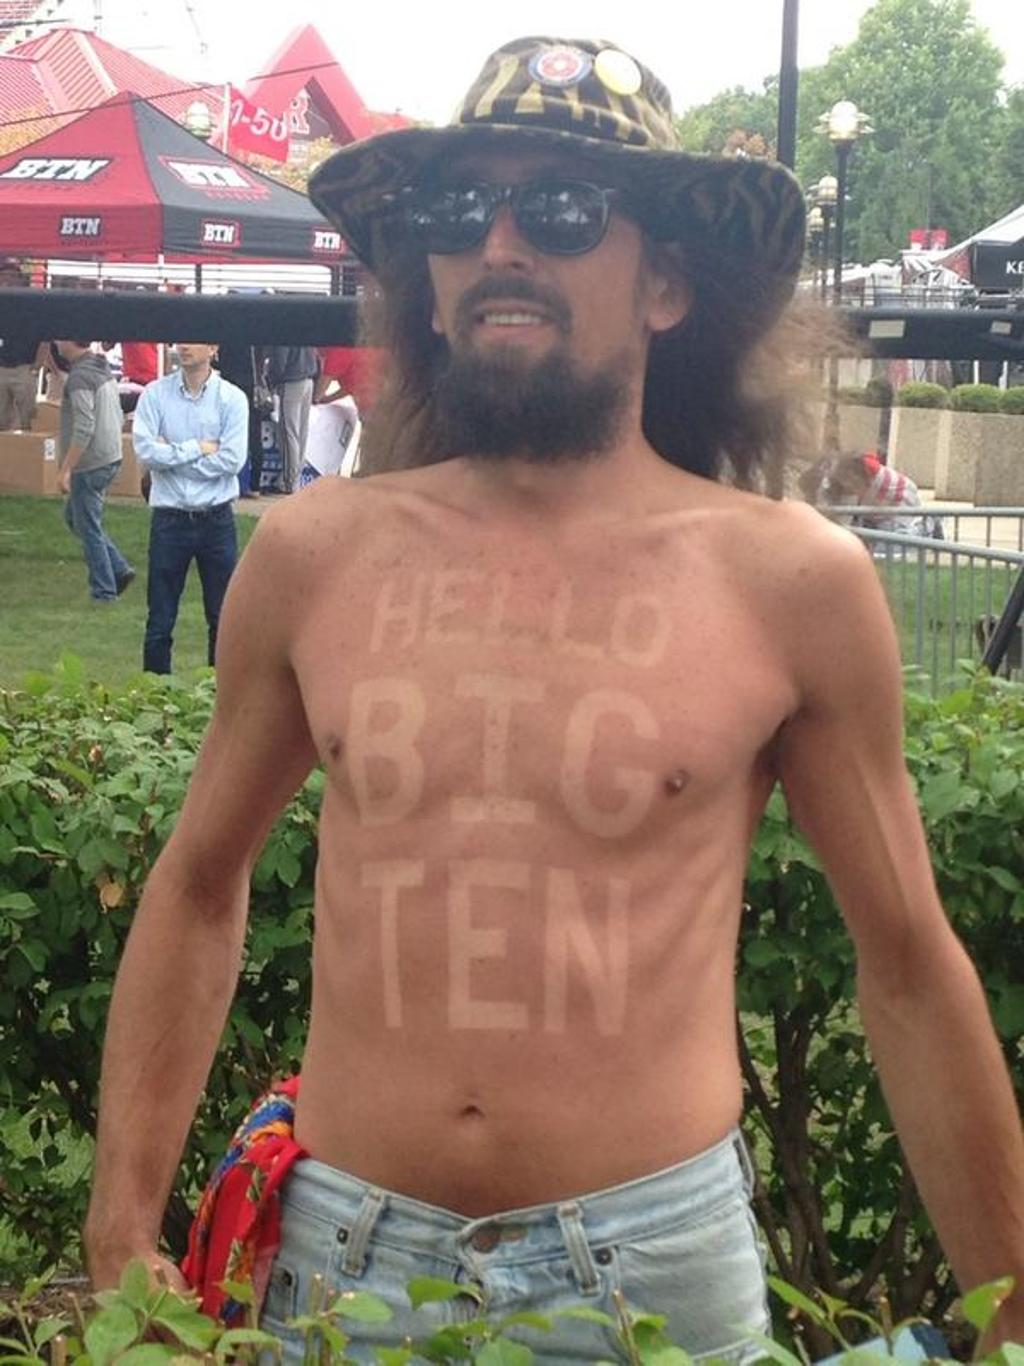face: (427, 153, 645, 391), (175, 320, 210, 366)
